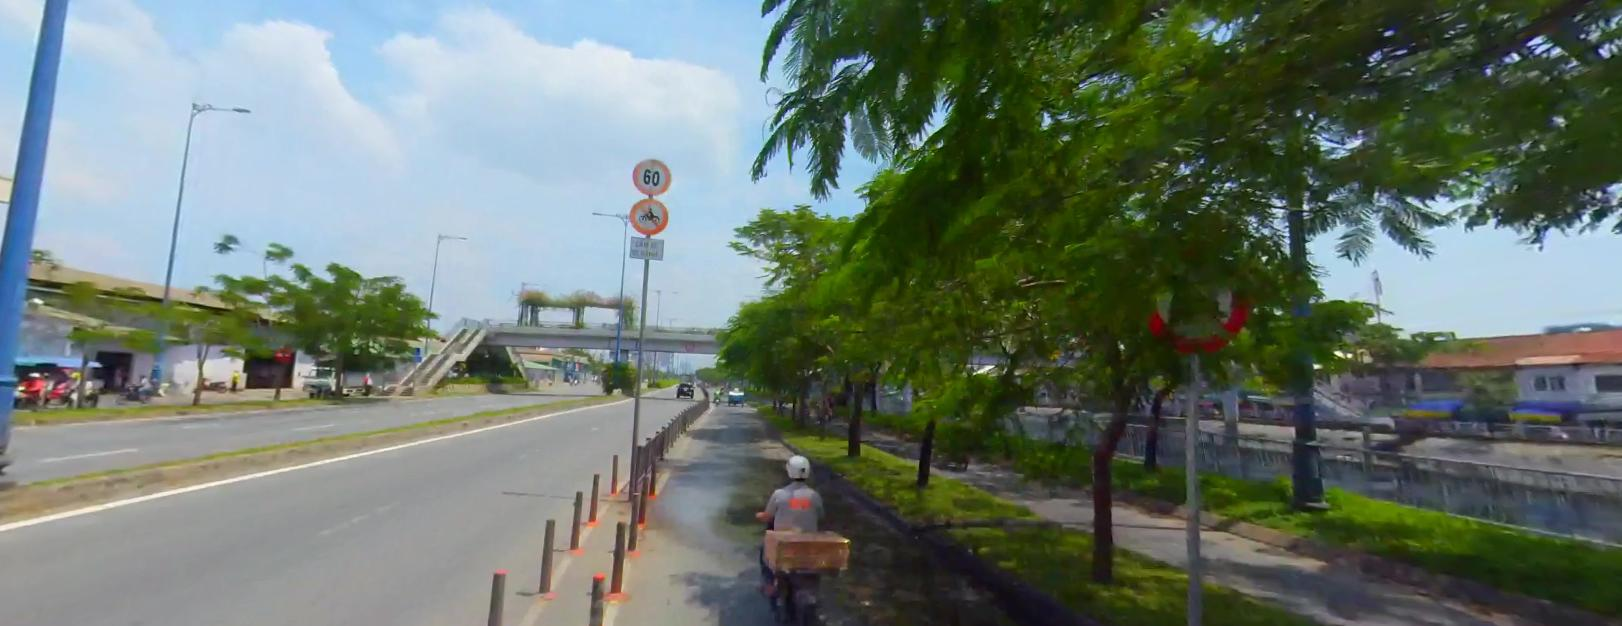Cam con lai: (1137, 230, 1246, 349), (629, 199, 668, 233), (684, 341, 694, 350)
Gioi han toc do: (631, 157, 671, 193)
